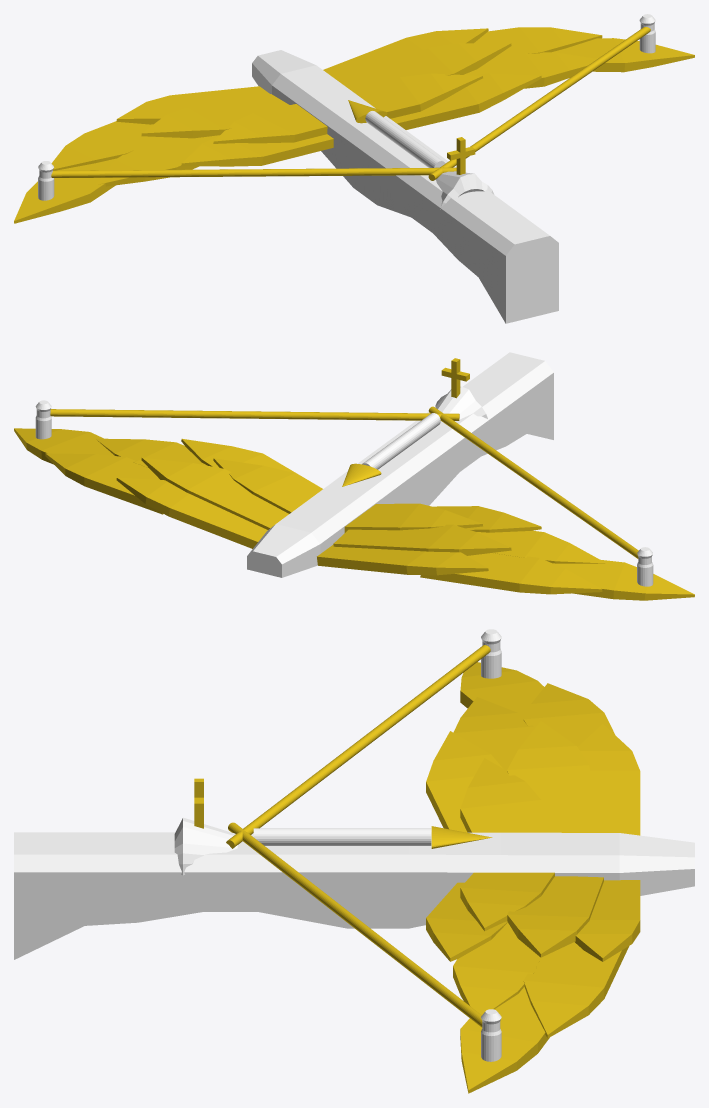
The model's file is rocket.fbx.
The picture shows the model from 3 angles, top to bottom: view 1: azimuth 30°, elevation 25°; view 2: azimuth 150°, elevation 25°; view 3: azimuth 270°, elevation 25°; orthographic projection. The views are drawn at different scales.
Parts seen in each view (by area): view 1: Cube, Cube.017, Cube.012, Cube.003, Cube.014, Cylinder.003, Cube.011, Cube.008, Cube.006, Cube.007, Cube.010, Cube.015 (+10 smaller); view 2: Cube, Cube.006, Cube.017, Cube.018, Cube.001, Cube.003, Cylinder.004, Cube.016, Cube.010, Cube.012, Cube.011, Cube.007 (+11 smaller); view 3: Cube, Cube.003, Cube.016, Cube.017, Cube.011, Cube.015, Cube.001, Cube.013, Cube.018, Cube.008, Cube.012, Cylinder.003 (+10 smaller).
Boxes of the visible parts, x1,y1,x2,y2 form: Cube: (252, 50, 558, 323); Cube.017: (334, 43, 511, 90); Cube.012: (351, 73, 482, 118); Cube.003: (141, 94, 289, 138); Cube.014: (390, 73, 541, 129); Cylinder.003: (51, 167, 456, 177); Cube.011: (213, 104, 327, 143); Cube.008: (181, 134, 333, 166); Cube.006: (51, 121, 160, 170); Cube.007: (95, 135, 219, 186); Cube.010: (14, 158, 116, 223); Cube.015: (464, 52, 596, 88); Cube: (247, 352, 553, 577); Cube.006: (420, 553, 602, 594); Cube.017: (141, 457, 288, 529); Cube.018: (116, 477, 267, 548); Cube.001: (317, 544, 488, 575); Cube.003: (333, 524, 511, 555); Cylinder.004: (50, 409, 459, 420); Cube.016: (45, 453, 163, 514); Cube.010: (553, 559, 694, 600); Cube.012: (213, 458, 322, 513); Cube.011: (344, 503, 482, 532); Cube.007: (477, 530, 606, 563); Cube: (14, 832, 694, 959); Cube.003: (507, 721, 602, 832); Cube.016: (523, 942, 629, 1038); Cube.017: (507, 876, 603, 957); Cube.011: (460, 758, 553, 832); Cube.015: (453, 922, 540, 1014); Cube.001: (578, 724, 640, 835); Cube.013: (460, 987, 549, 1093); Cube.018: (575, 880, 640, 961); Cube.008: (426, 731, 502, 832); Cube.012: (460, 872, 554, 931); Cylinder.003: (226, 645, 490, 848).
Bounding box in the file's own units: 88.18 × 15.59 × 58.98.
